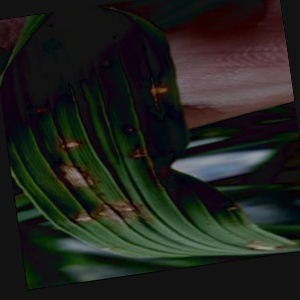Brown_Spot: (94, 194, 156, 228), (50, 154, 93, 195), (55, 62, 90, 111), (150, 148, 183, 199), (142, 63, 173, 117), (41, 25, 82, 62), (15, 99, 64, 129), (65, 200, 98, 234), (43, 131, 87, 154), (116, 120, 149, 144), (129, 141, 160, 163), (217, 194, 245, 213)
